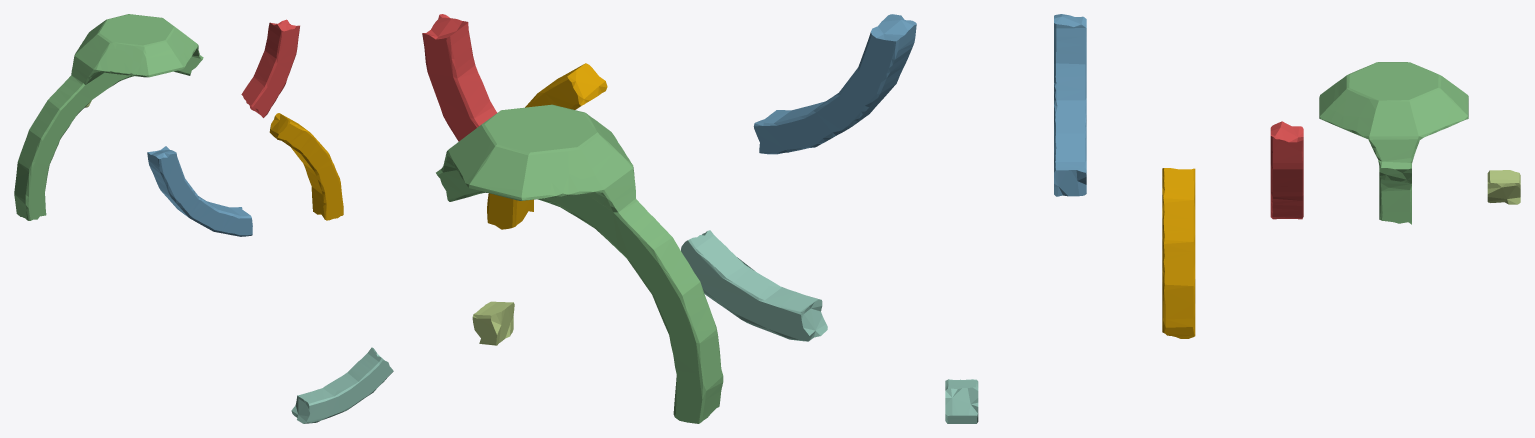
The model's file is fractured_68_6pcs_transformed.glb.
The picture shows the model from 3 angles, left to right: view 1: azimuth 30°, elevation 25°; view 2: azimuth 150°, elevation 25°; view 3: azimuth 270°, elevation 25°; orthographic projection. The views are drawn at different scales.
Parts seen in each view (by area): view 1: piece_3.obj, piece_2.obj, piece_4.obj, piece_0.obj, piece_1.obj; view 2: piece_3.obj, piece_2.obj, piece_4.obj, piece_1.obj, piece_0.obj, piece_5.obj; view 3: piece_3.obj, piece_2.obj, piece_0.obj, piece_1.obj, piece_4.obj, piece_5.obj.
Boxes of the visible parts, x1=… form: piece_3.obj: x1=14, y1=14, x2=203, y2=220; piece_2.obj: x1=147, y1=146, x2=252, y2=236; piece_4.obj: x1=291, y1=347, x2=393, y2=423; piece_0.obj: x1=269, y1=113, x2=343, y2=220; piece_1.obj: x1=241, y1=19, x2=299, y2=117; piece_3.obj: x1=436, y1=104, x2=723, y2=423; piece_2.obj: x1=753, y1=14, x2=916, y2=154; piece_4.obj: x1=681, y1=230, x2=827, y2=341; piece_1.obj: x1=422, y1=14, x2=497, y2=141; piece_0.obj: x1=487, y1=63, x2=607, y2=229; piece_5.obj: x1=472, y1=301, x2=514, y2=345; piece_3.obj: x1=1319, y1=62, x2=1468, y2=224; piece_2.obj: x1=1054, y1=14, x2=1086, y2=196; piece_0.obj: x1=1162, y1=168, x2=1195, y2=338; piece_1.obj: x1=1270, y1=121, x2=1303, y2=219; piece_4.obj: x1=945, y1=379, x2=978, y2=423; piece_5.obj: x1=1487, y1=170, x2=1520, y2=204.
Size of the model in its own units: 0.925 by 1.06 by 1.59.
